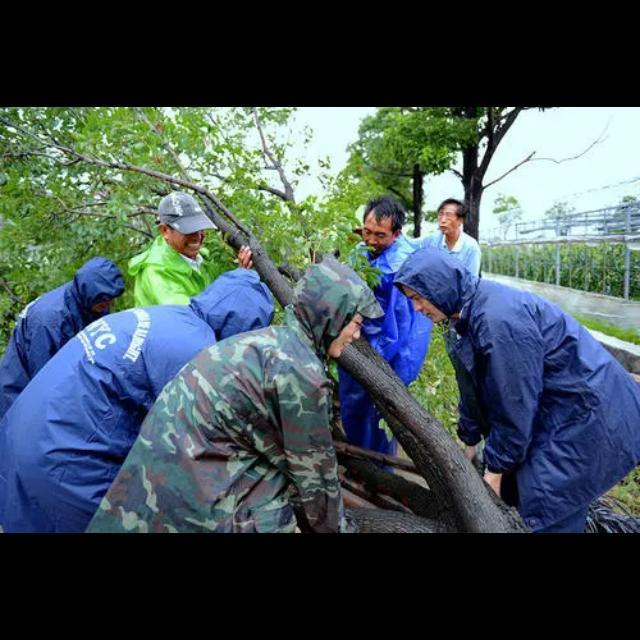fallen_tree: (0, 107, 528, 529)
